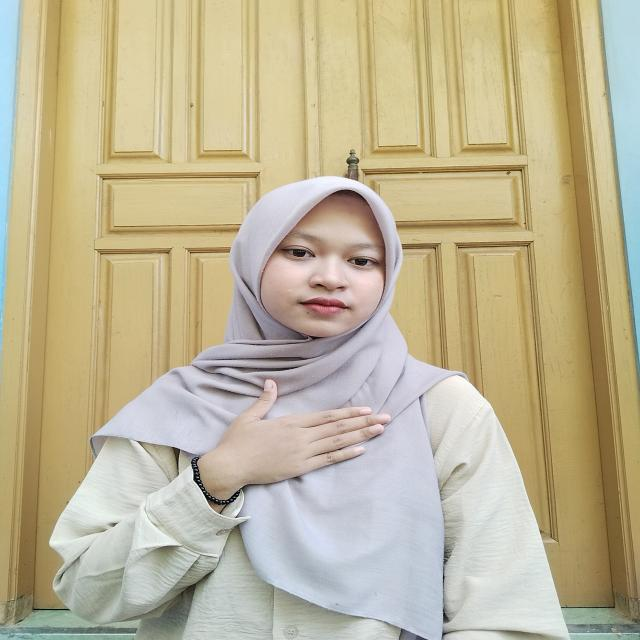tolong: (177, 377, 401, 519)
